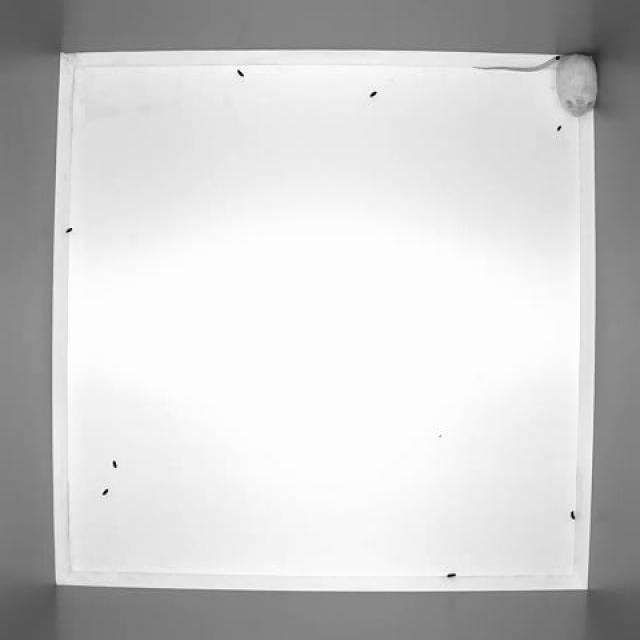rat: (473, 49, 608, 125)
